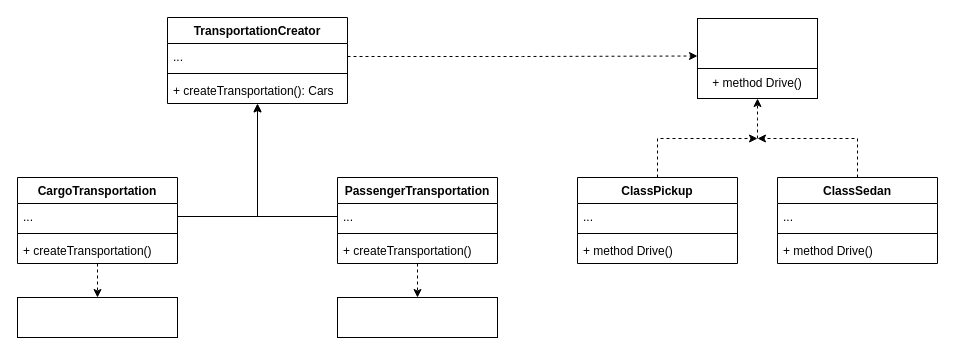
Some shapes in this 955 by 355 pixel diagram are drawn without their labels. The centre of each missing label's shape, as x and y in pixels:
"return new ClassPickup()" belongs at point 97,317.
"return new ClassSedan()" belongs at point 417,317.
"«interface» Cars" belongs at point 757,43.
